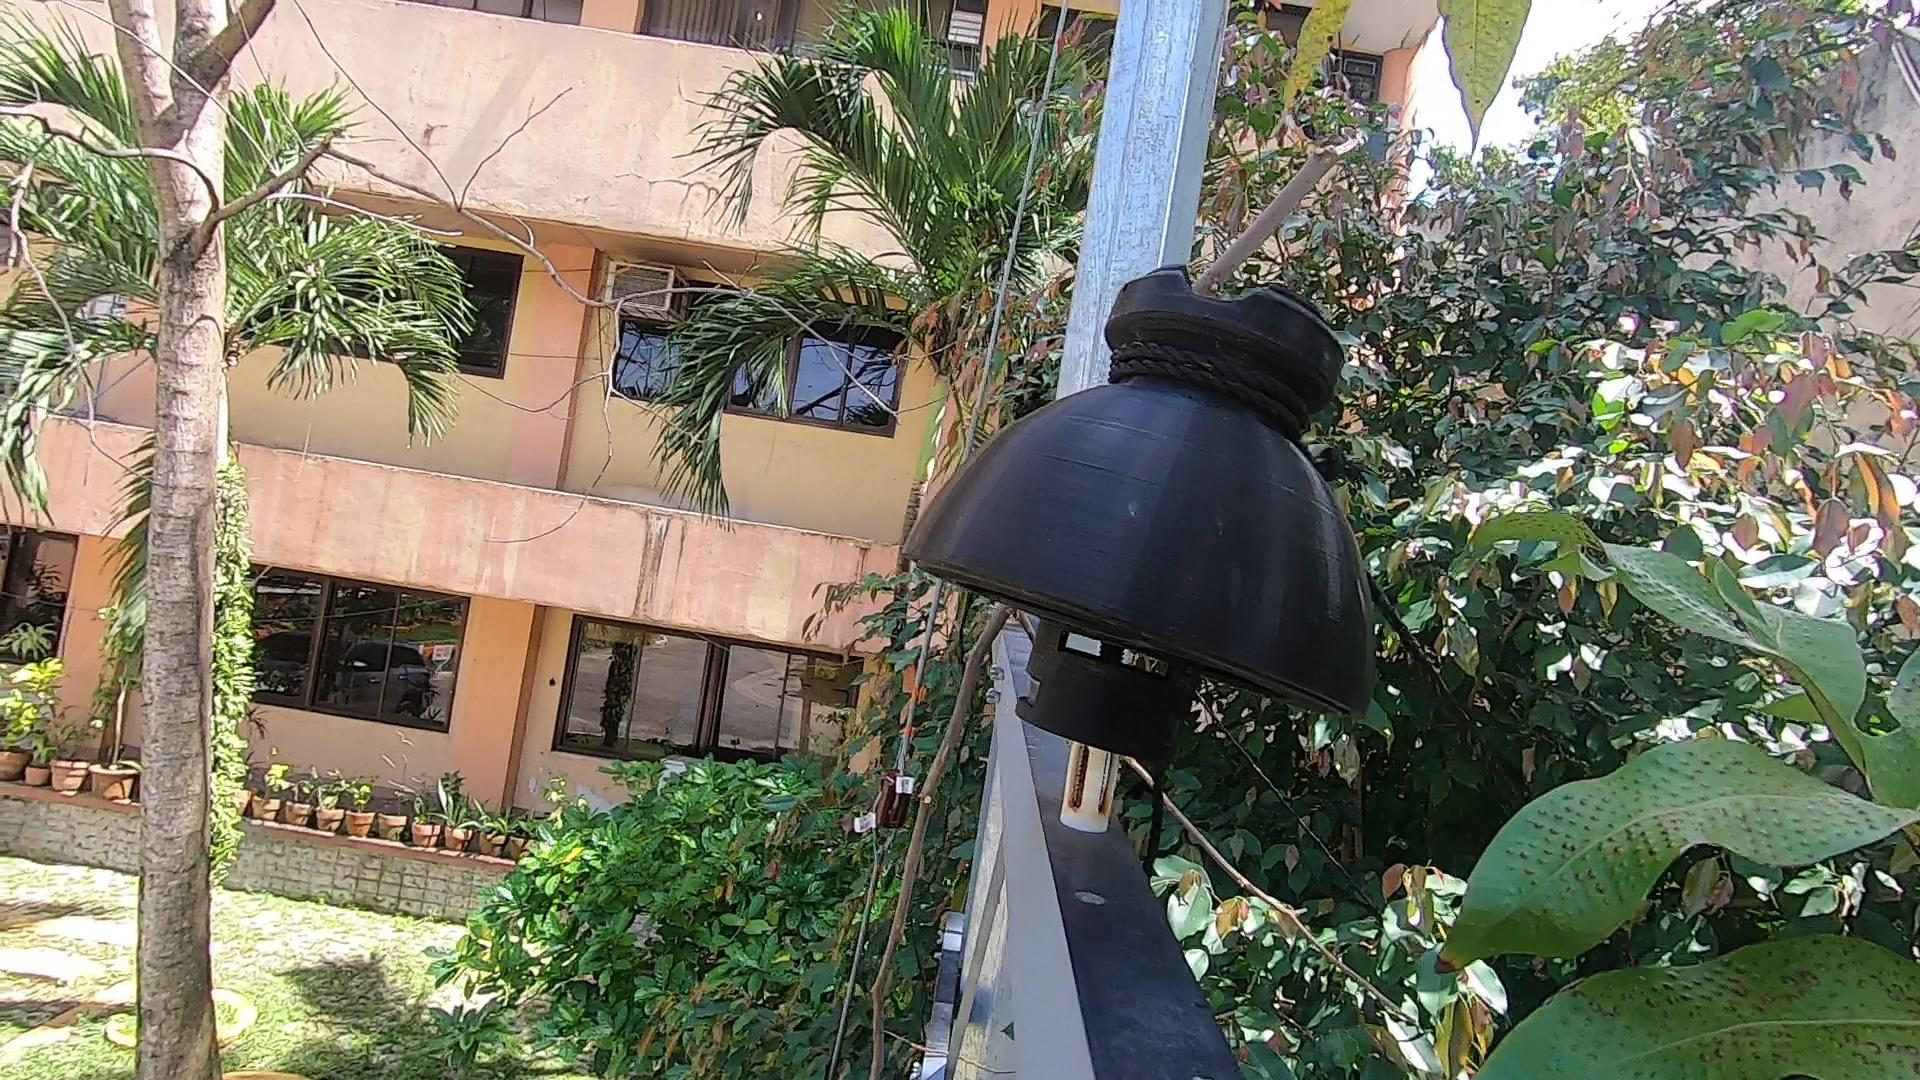tree branch: (843, 138, 1443, 1080)
